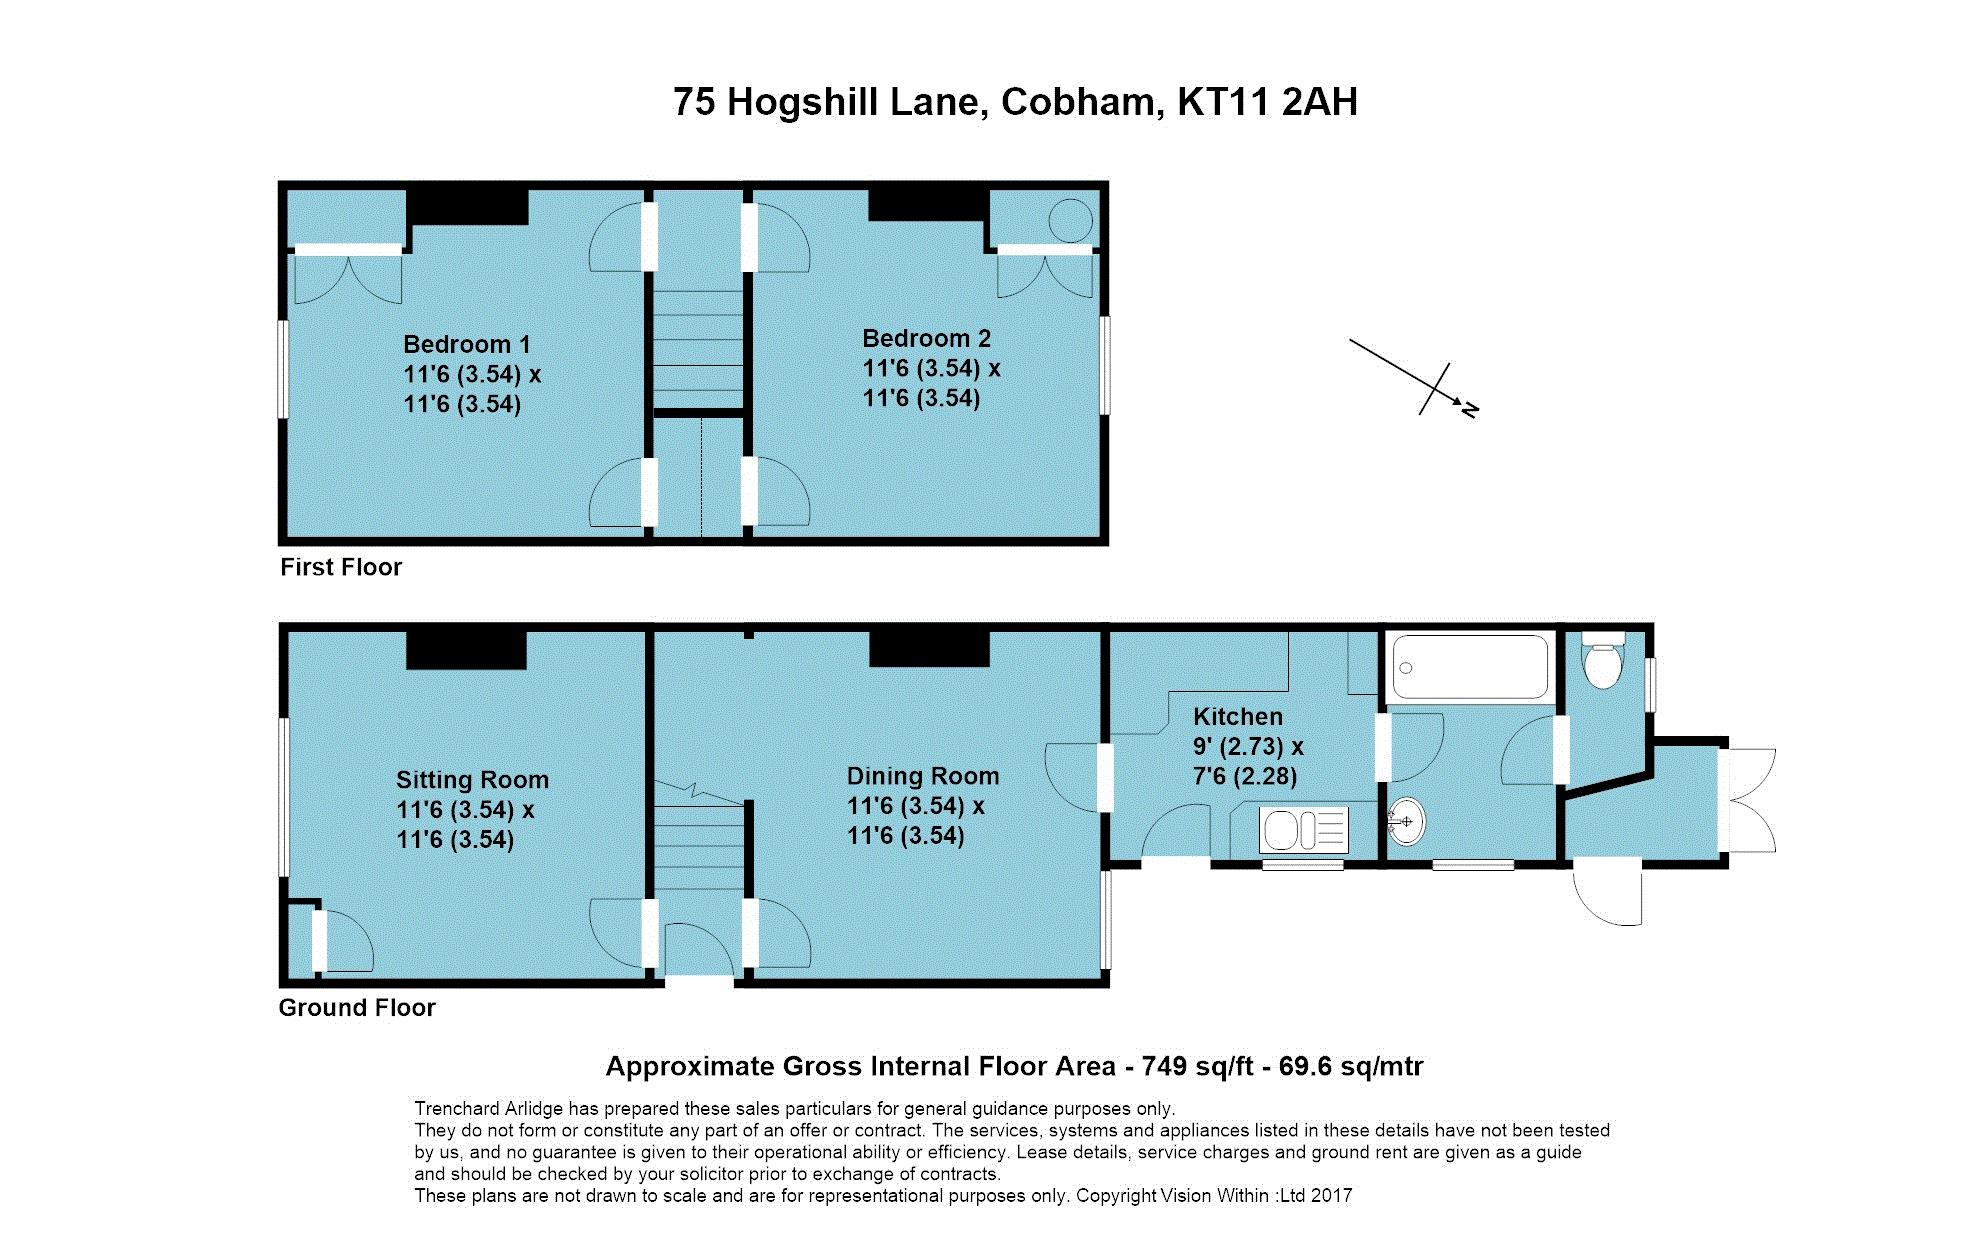room: (646, 625, 1110, 987), (280, 177, 662, 548), (280, 623, 657, 987), (745, 180, 1112, 550), (1100, 622, 1385, 864), (1384, 626, 1564, 873)
